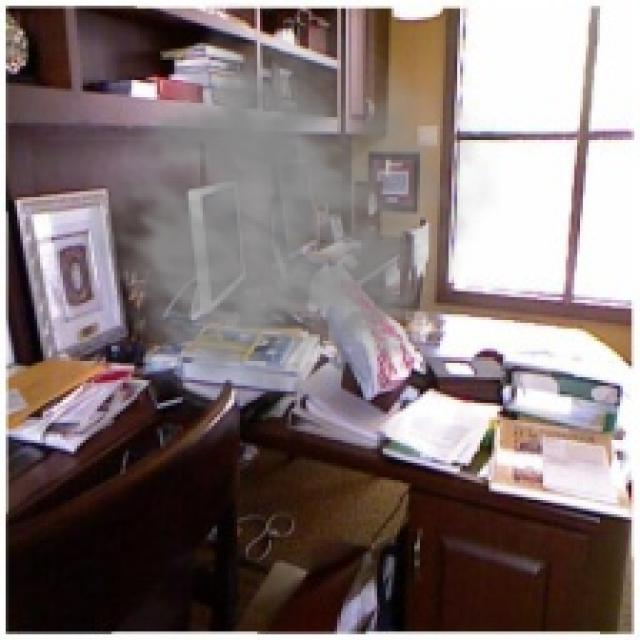smoke: (83, 3, 500, 414)
